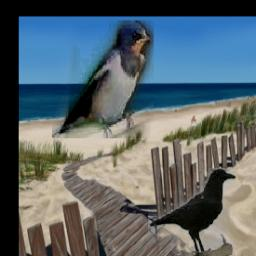Crow: (148, 168, 236, 256)
Swallow: (53, 22, 155, 139)
